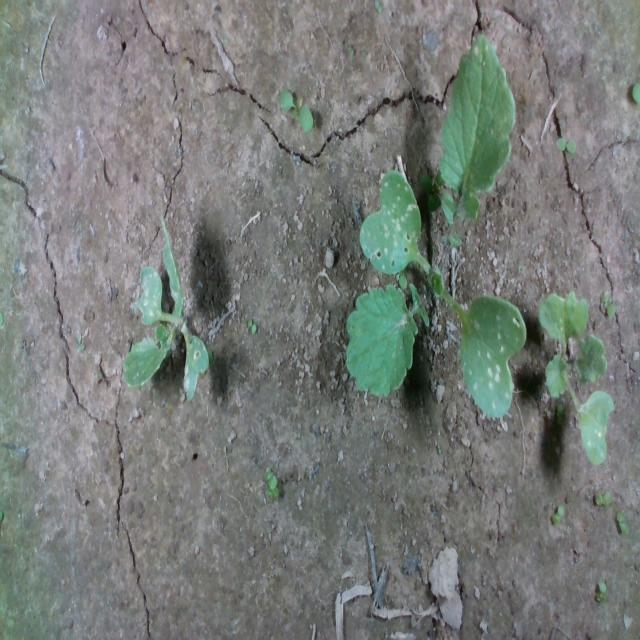weed: (274, 84, 314, 143), (598, 284, 618, 330), (553, 131, 577, 159), (593, 575, 612, 607), (264, 464, 278, 505), (552, 497, 566, 529), (243, 316, 259, 342), (595, 485, 611, 511), (616, 502, 626, 538)
